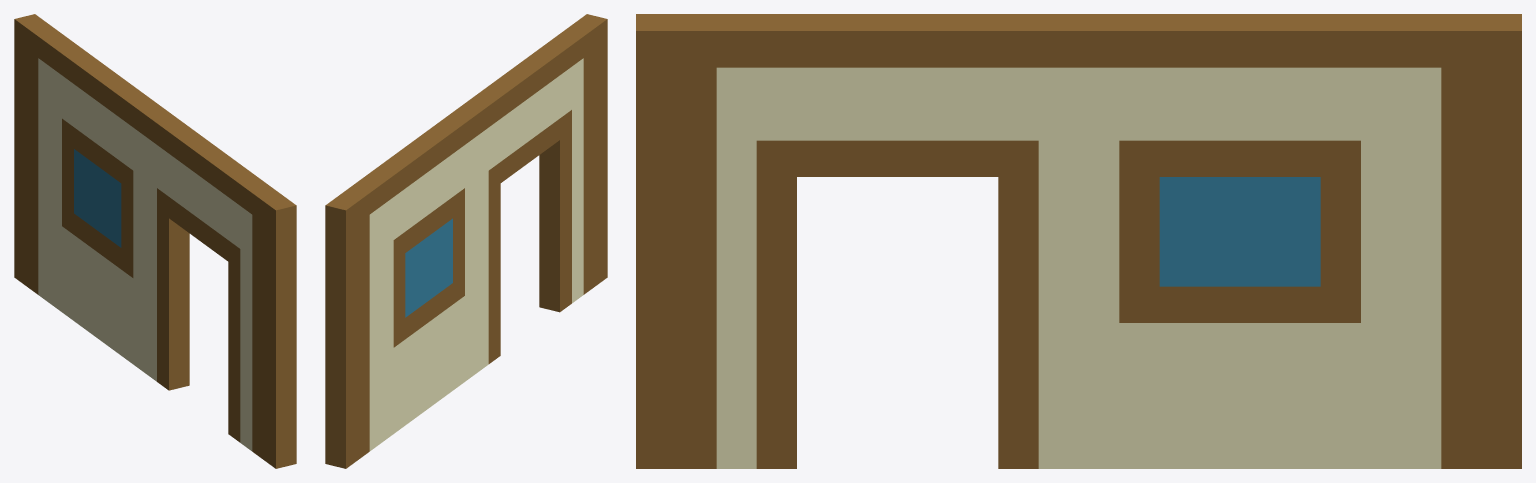
File: will with door.glb
The picture shows the model from 3 angles, left to right: view 1: azimuth 30°, elevation 25°; view 2: azimuth 150°, elevation 25°; view 3: azimuth 270°, elevation 25°; orthographic projection. The views are drawn at different scales.
Parts seen in each view (by area): view 1: pl0; view 2: pl0; view 3: pl0.
Part boxes in pixels (bbox=[...]): pl0: bbox=[14, 14, 296, 468]; pl0: bbox=[325, 14, 607, 468]; pl0: bbox=[636, 14, 1521, 468].
Size of the model in its own units: 0.1 by 1.2 by 2.2.
Materials: 1 (1 with a texture image).
